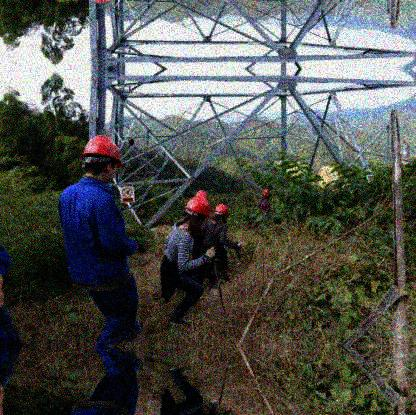helmet: (83, 134, 124, 183), (186, 195, 210, 231), (215, 203, 229, 222), (260, 187, 270, 200)
